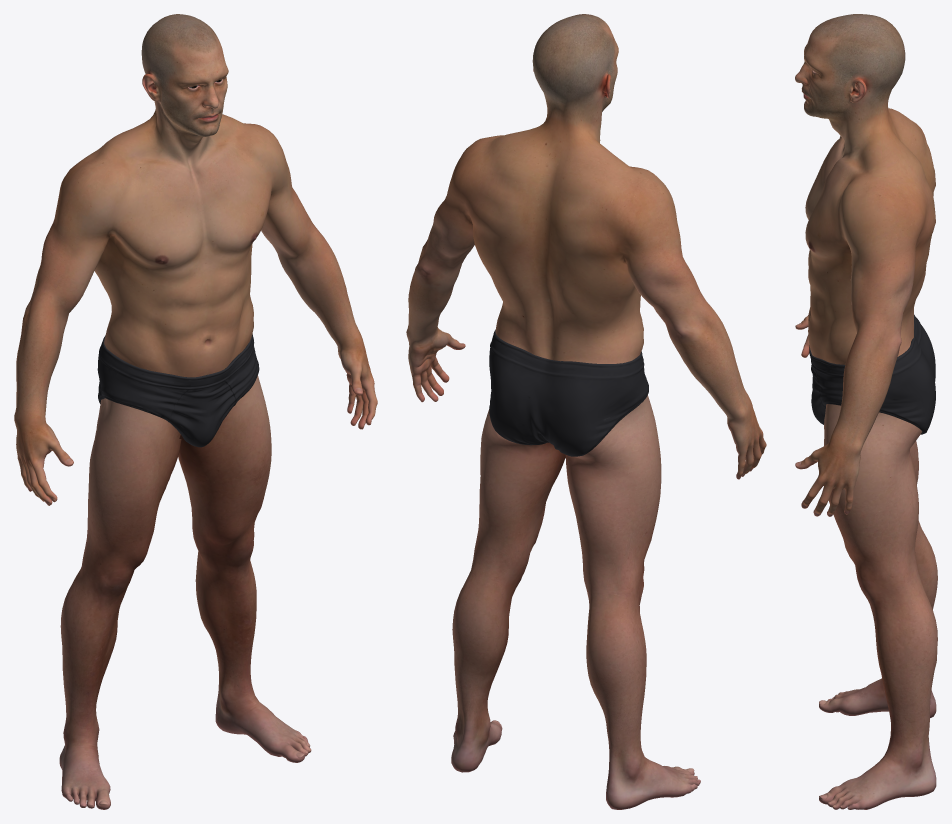
Rendered from skin-morph.glb.
3 renders of one model, left to right at view 1: azimuth 30°, elevation 25°; view 2: azimuth 150°, elevation 25°; view 3: azimuth 270°, elevation 25°, orthographic.
Visible parts, largest first — view 1: Body_m, Underwear_m; view 2: Body_m, Underwear_m; view 3: Body_m, Underwear_m.
Boxes of the visible parts, box(x1,y1,x2,y2) form: Body_m: box(14, 14, 377, 809); Underwear_m: box(97, 334, 259, 447); Body_m: box(406, 14, 766, 809); Underwear_m: box(489, 330, 648, 456); Body_m: box(795, 14, 937, 809); Underwear_m: box(809, 314, 935, 434).
Size of the model in its own units: 0.8592 by 1.8 by 0.315.
4 materials, 3 textured.
